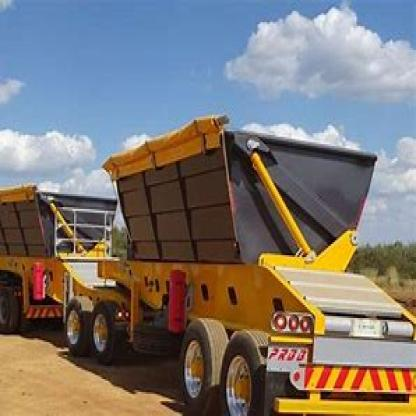dump_truck: (6, 102, 414, 414)
